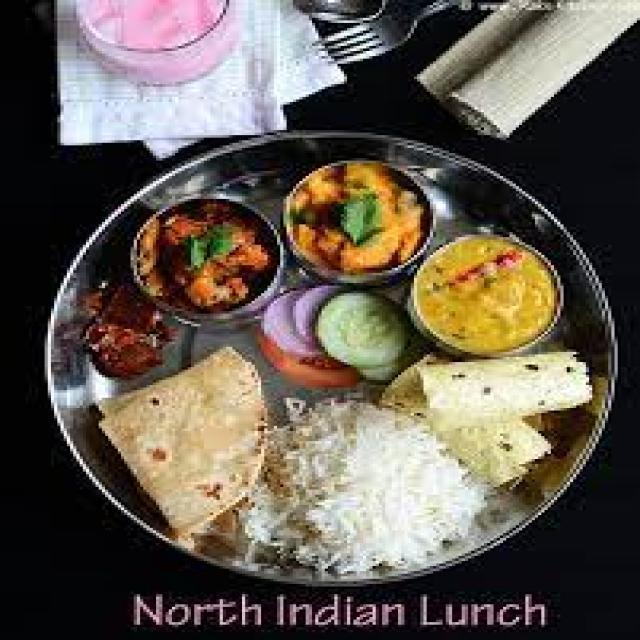dal: (407, 232, 570, 360)
papad: (88, 346, 278, 531), (400, 341, 615, 458)
pickle: (63, 275, 185, 389)
rice: (261, 402, 482, 584)
roti: (98, 351, 275, 531)
veg-fry: (271, 152, 443, 288), (406, 228, 572, 361), (123, 203, 288, 317)
